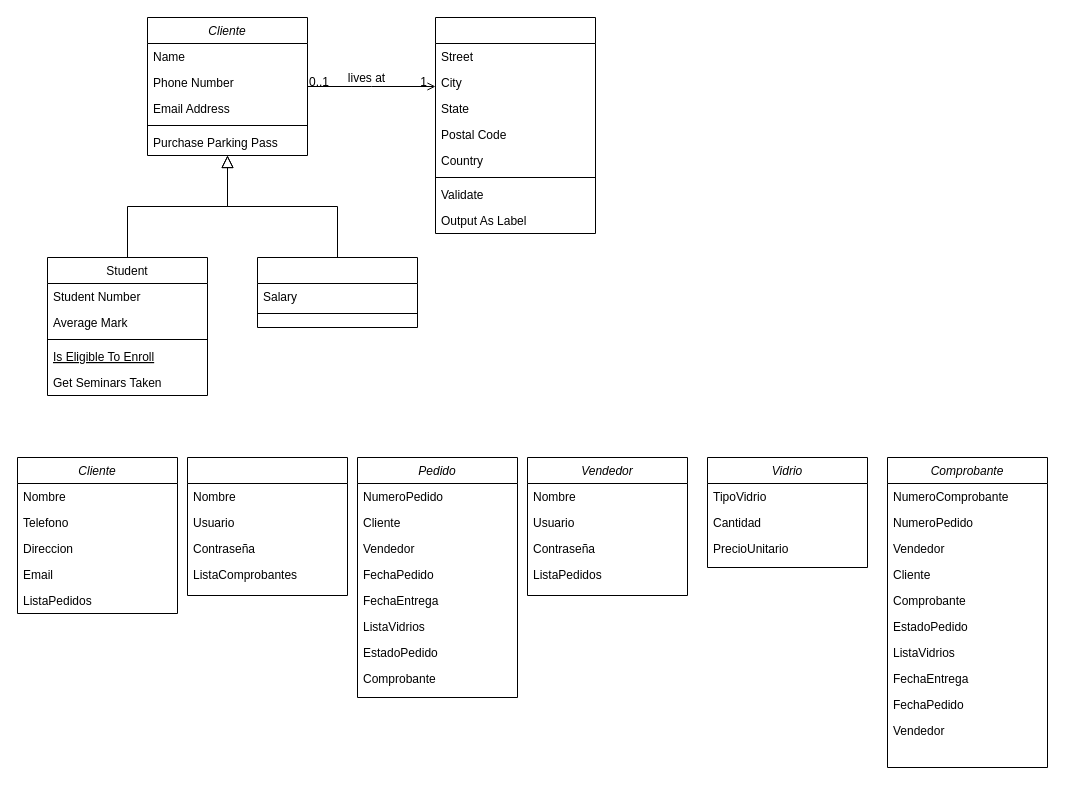
Some shapes in this 1065 by 785 pixel diagram are drawn without their labels. The box of each missing label's shape, as (x1, y1, x2, y2) in pixels:
Address: (434, 16, 596, 234)
Cajero: (186, 456, 348, 596)
Professor: (256, 256, 418, 328)
